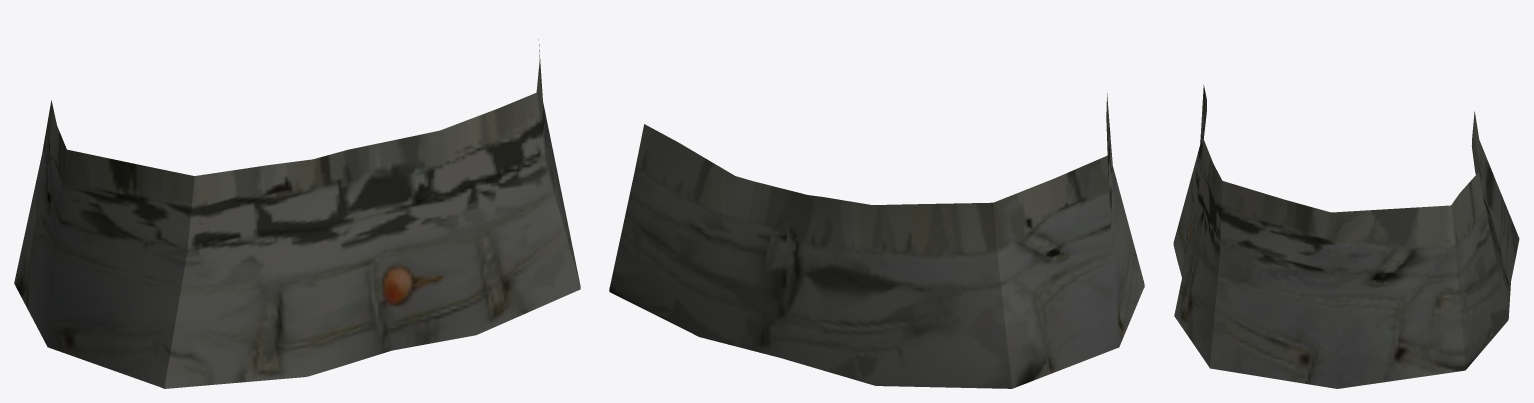
Rendered from 010-shell.glb.
3 renders of one model, left to right at view 1: azimuth 30°, elevation 25°; view 2: azimuth 150°, elevation 25°; view 3: azimuth 270°, elevation 25°, orthographic. The views are drawn at different scales.
Parts seen in each view (by area): view 1: geometry_0; view 2: geometry_0; view 3: geometry_0.
Boxes of the visible parts, x1=… form: geometry_0: x1=14, y1=39, x2=580, y2=388; geometry_0: x1=609, y1=93, x2=1144, y2=388; geometry_0: x1=1173, y1=84, x2=1519, y2=388.
Size of the model in its own units: 0.3475 by 0.1312 by 0.2386.
Materials: 1 (1 with a texture image).
